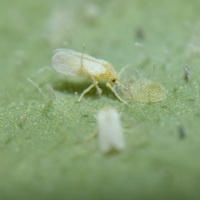insect: (52, 48, 132, 104)
